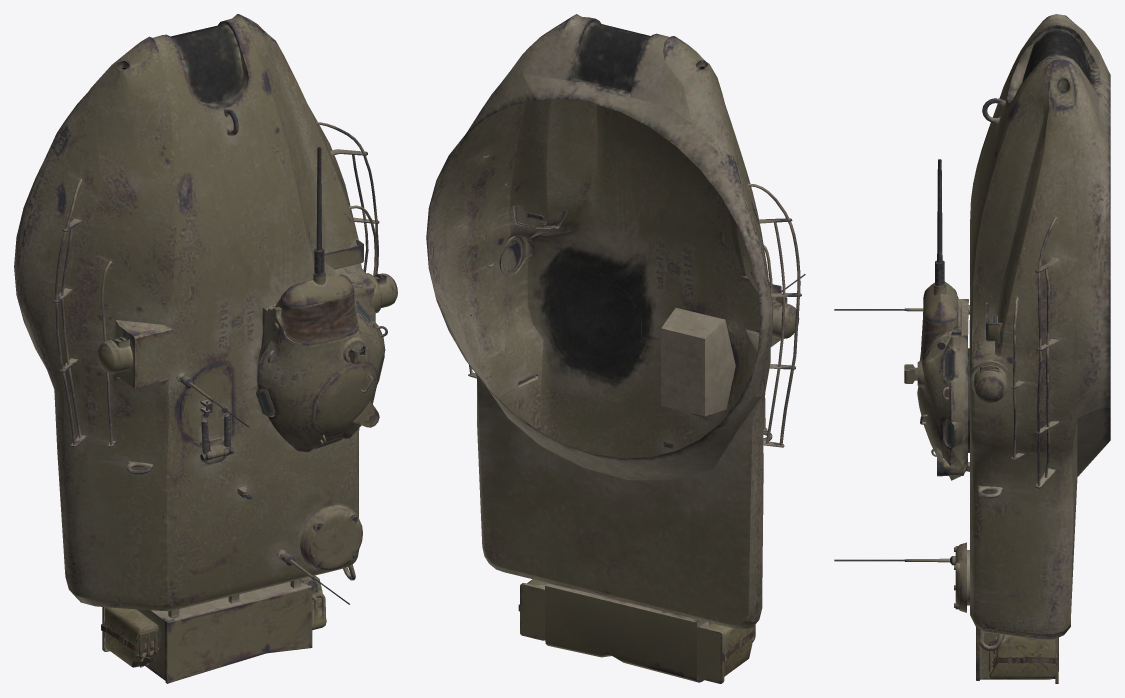
File: Turret_01.glb
3 views of the same model, side by side, from view 1: azimuth 30°, elevation 25°; view 2: azimuth 150°, elevation 25°; view 3: azimuth 270°, elevation 25° (orthographic). The views are drawn at different scales.
Visible parts, largest first — view 1: set_0_group_0; view 2: set_0_group_0; view 3: set_0_group_0.
Boxes of the visible parts, x1=… form: set_0_group_0: x1=14, y1=14, x2=397, y2=683; set_0_group_0: x1=426, y1=14, x2=805, y2=683; set_0_group_0: x1=834, y1=14, x2=1110, y2=683.
Size of the model in its own units: 2.62 by 4.6 by 1.88.
Materials: 1 (1 with a texture image).
